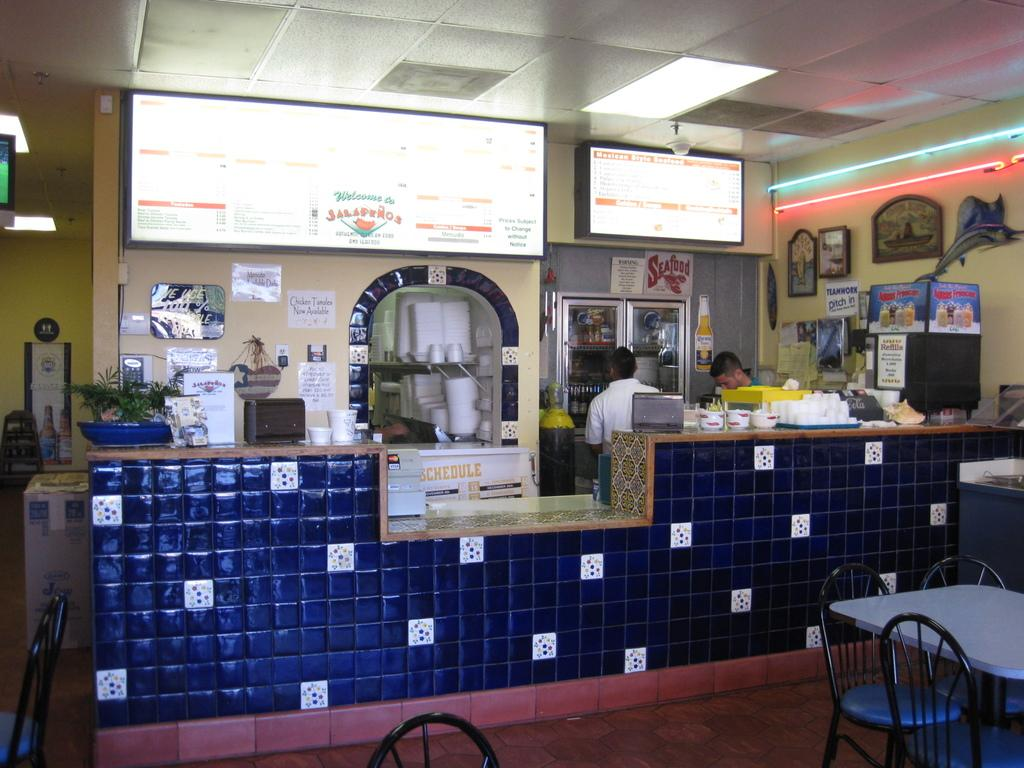Chair: (875, 614, 1021, 767), (916, 560, 1012, 726), (0, 596, 68, 767)
